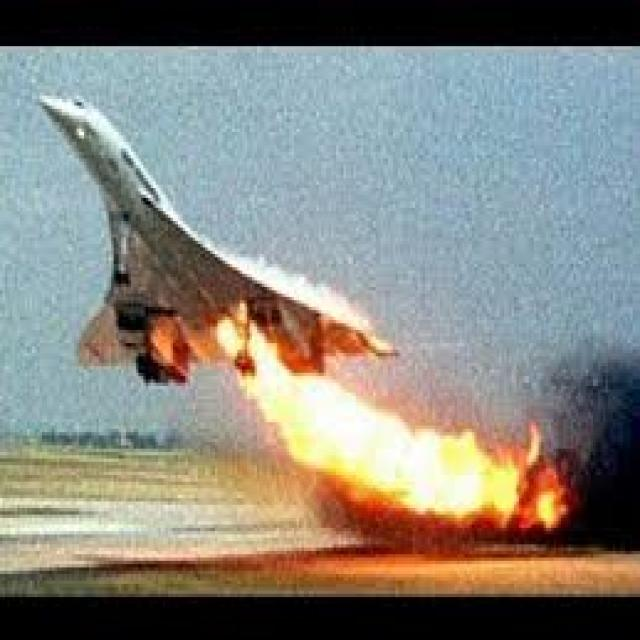explosion: (269, 380, 640, 614)
